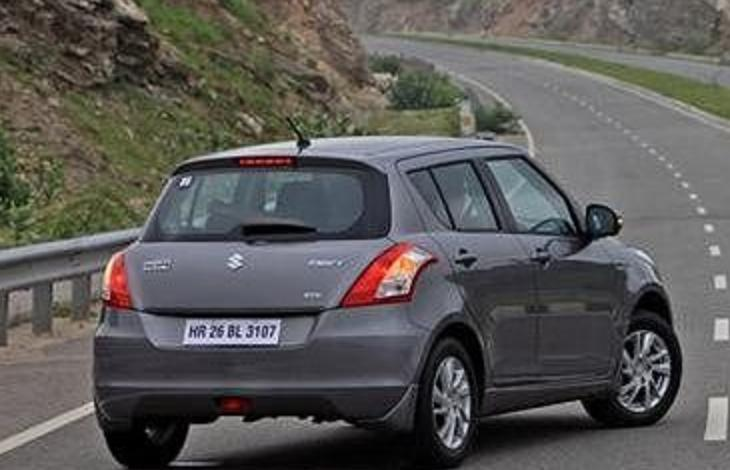car: (77, 107, 696, 470)
